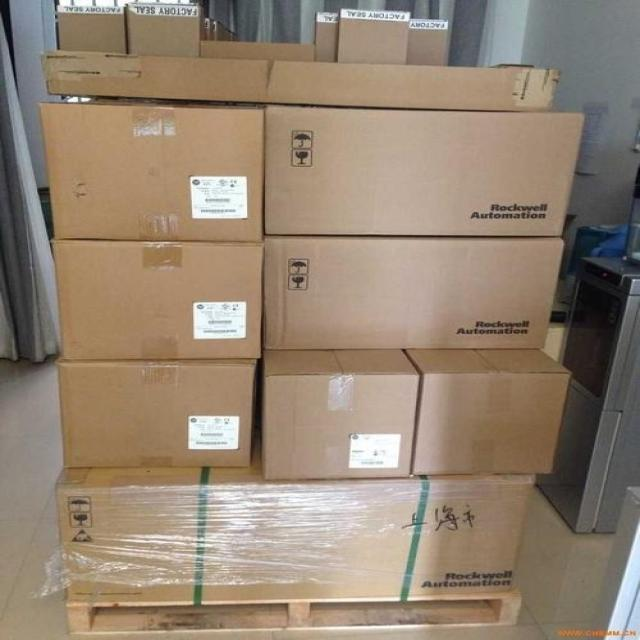box: (55, 420, 535, 603), (264, 104, 585, 236), (264, 236, 564, 349), (40, 50, 562, 111), (41, 99, 262, 242), (55, 239, 264, 360), (55, 355, 256, 468), (403, 348, 572, 475), (261, 349, 421, 479), (123, 2, 206, 56), (338, 8, 411, 63), (58, 6, 128, 54), (201, 40, 315, 60), (410, 19, 451, 66), (315, 12, 338, 61)
